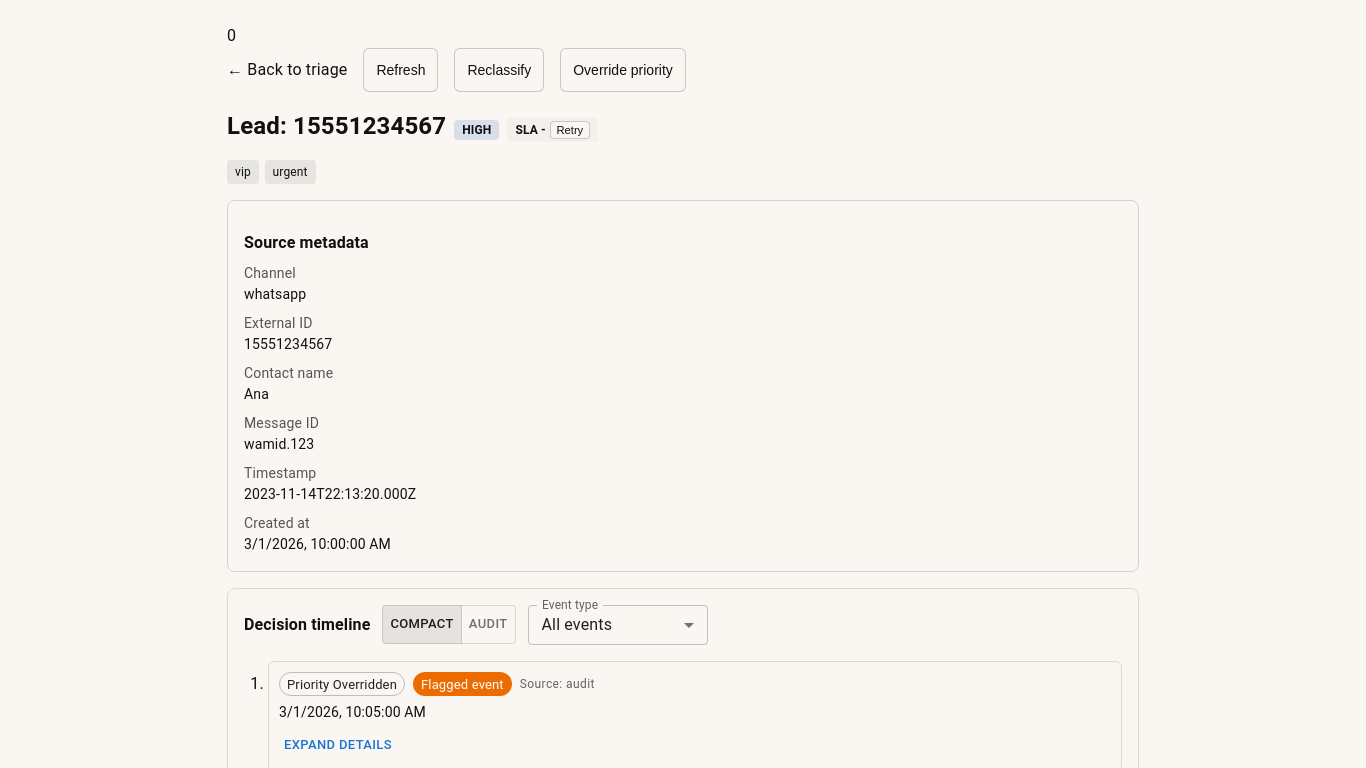
Test case: lead detail governance timeline integration › renders governance events and supports event-type filtering
Expected: the heading "Decision timeline" is shown, [244, 612, 370, 638]
Expected: the text "Priority Overridden" is shown, [280, 675, 404, 694]
Press the mouse on the dropdown named "Event type" at (577, 625), box [542, 615, 612, 634]
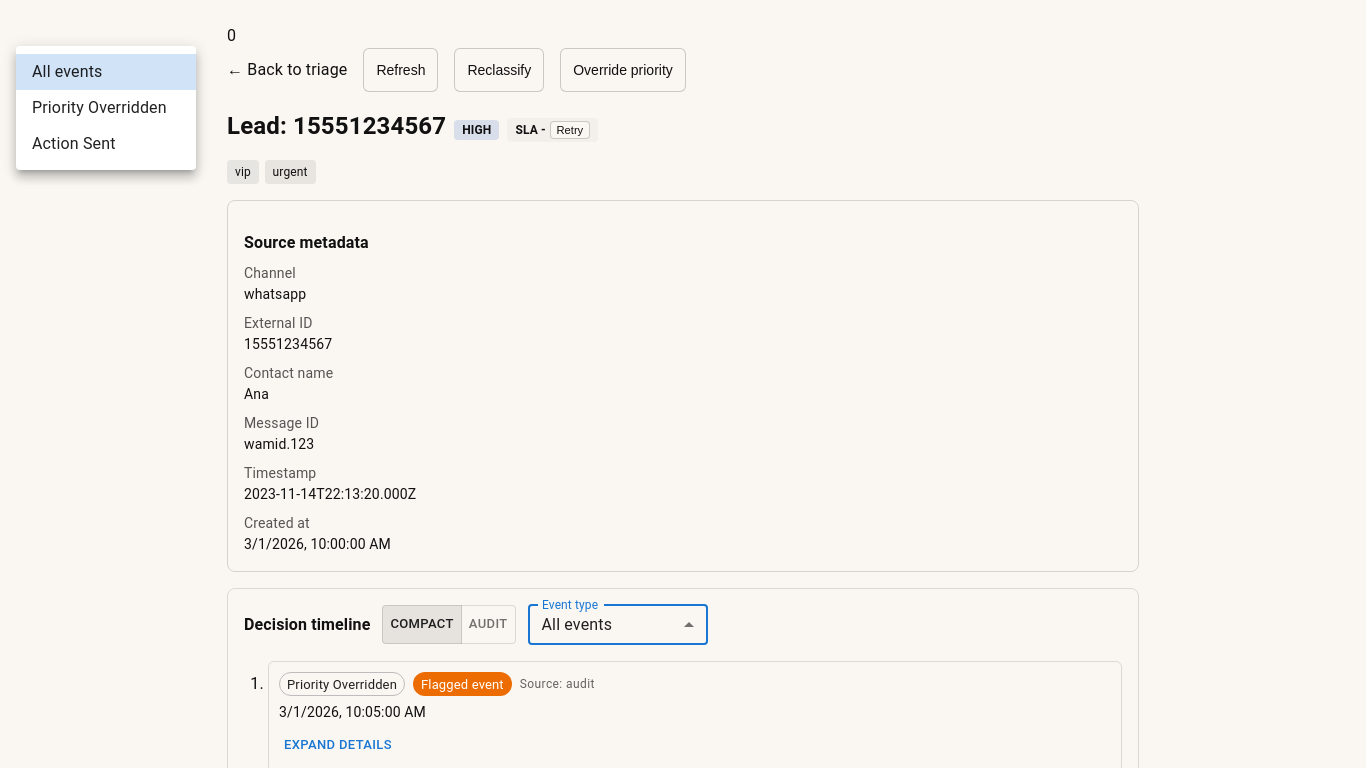
Click the option "Action Sent" at (74, 144), box [32, 134, 116, 153]
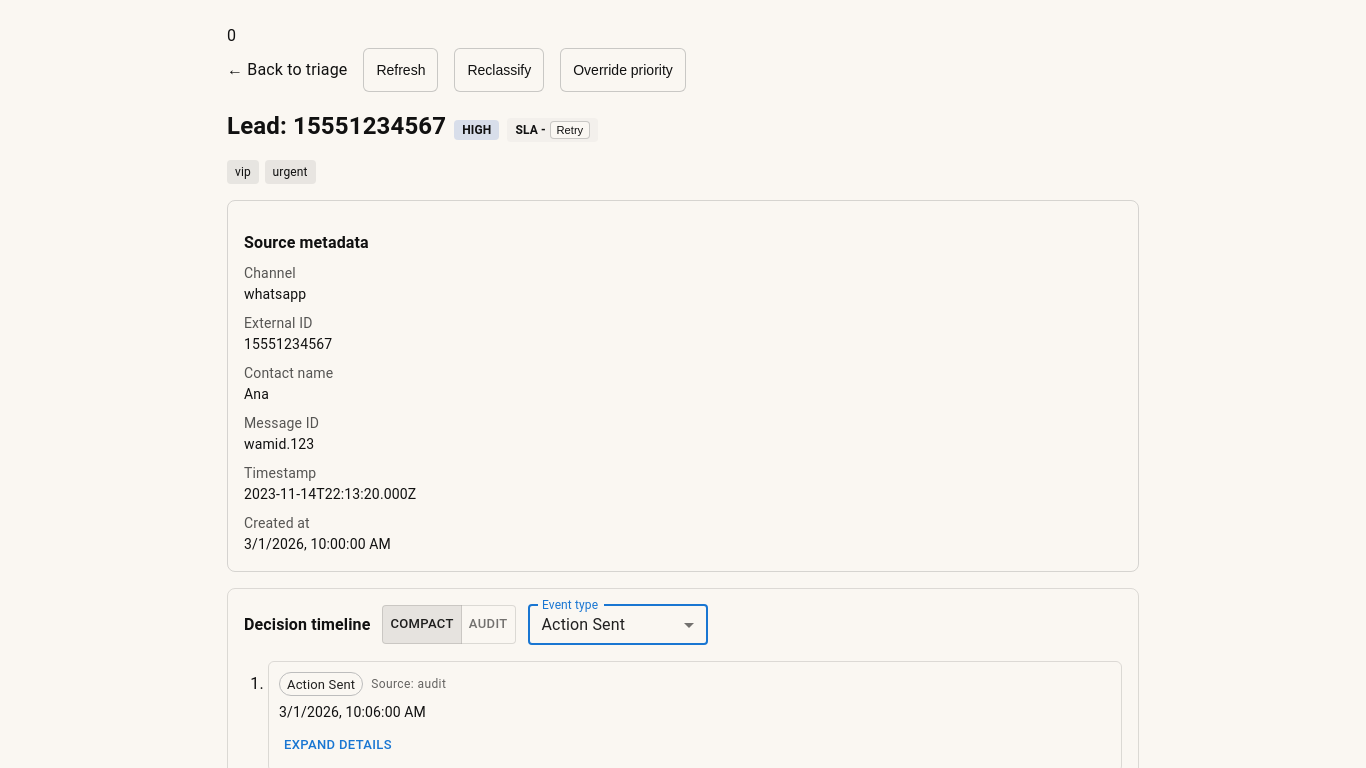
Expected: the text "Action Sent" is shown, [287, 677, 355, 692]
Expected: the text "Priority Overridden" is gone
